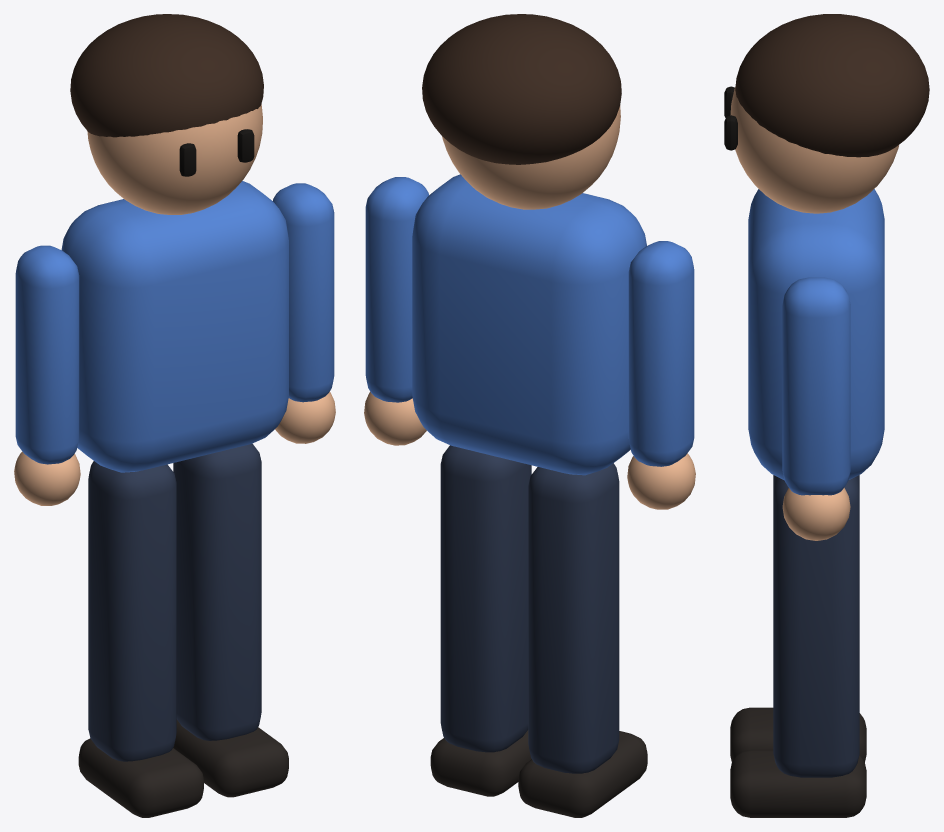
The model's file is pessoa.glb.
3 views of the same model, side by side, from view 1: azimuth 30°, elevation 25°; view 2: azimuth 150°, elevation 25°; view 3: azimuth 270°, elevation 25° (orthographic). The views are drawn at different scales.
Parts seen in each view (by area): view 1: pessoa_tronco, Cube, Cube.002, Icosphere.003, Cube.004, Icosphere.002, Cube.005, Cube.001, Cube.003, Icosphere, Icosphere.001; view 2: pessoa_tronco, Cube, Cube.002, Icosphere.003, Cube.004, Cube.005, Icosphere.002, Cube.001, Cube.003, Icosphere, Icosphere.001; view 3: pessoa_tronco, Cube.002, Icosphere.003, Cube.005, Icosphere.002, Cube.003, Icosphere.001, Cube.001, Cube.007.
Part boxes in pixels (x1,y1,x2,y2): pessoa_tronco: (61, 181, 288, 472); Cube: (88, 461, 176, 761); Cube.002: (173, 443, 261, 740); Icosphere.003: (70, 14, 263, 137); Cube.004: (15, 245, 79, 464); Icosphere.002: (87, 104, 262, 214); Cube.005: (273, 183, 334, 402); Cube.001: (78, 738, 203, 817); Cube.003: (173, 719, 288, 797); Icosphere: (14, 451, 80, 505); Icosphere.001: (275, 392, 335, 443); pessoa_tronco: (412, 174, 646, 475); Cube: (528, 463, 619, 773); Cube.002: (440, 445, 531, 752); Icosphere.003: (422, 14, 621, 164); Cube.004: (628, 241, 694, 466); Cube.005: (365, 177, 428, 402); Icosphere.002: (442, 105, 620, 209); Cube.001: (518, 731, 647, 817); Cube.003: (430, 730, 531, 796); Icosphere: (627, 453, 695, 509); Icosphere.001: (364, 391, 426, 445); pessoa_tronco: (748, 189, 884, 480); Cube.002: (773, 477, 859, 777); Icosphere.003: (735, 14, 929, 157); Cube.005: (782, 277, 850, 495); Icosphere.002: (730, 86, 898, 213); Cube.003: (730, 749, 866, 817); Icosphere.001: (782, 487, 850, 540); Cube.001: (730, 707, 866, 762); Cube.007: (724, 115, 737, 150).
Bounding box in the file's own units: 0.81 × 1.84 × 0.452.
